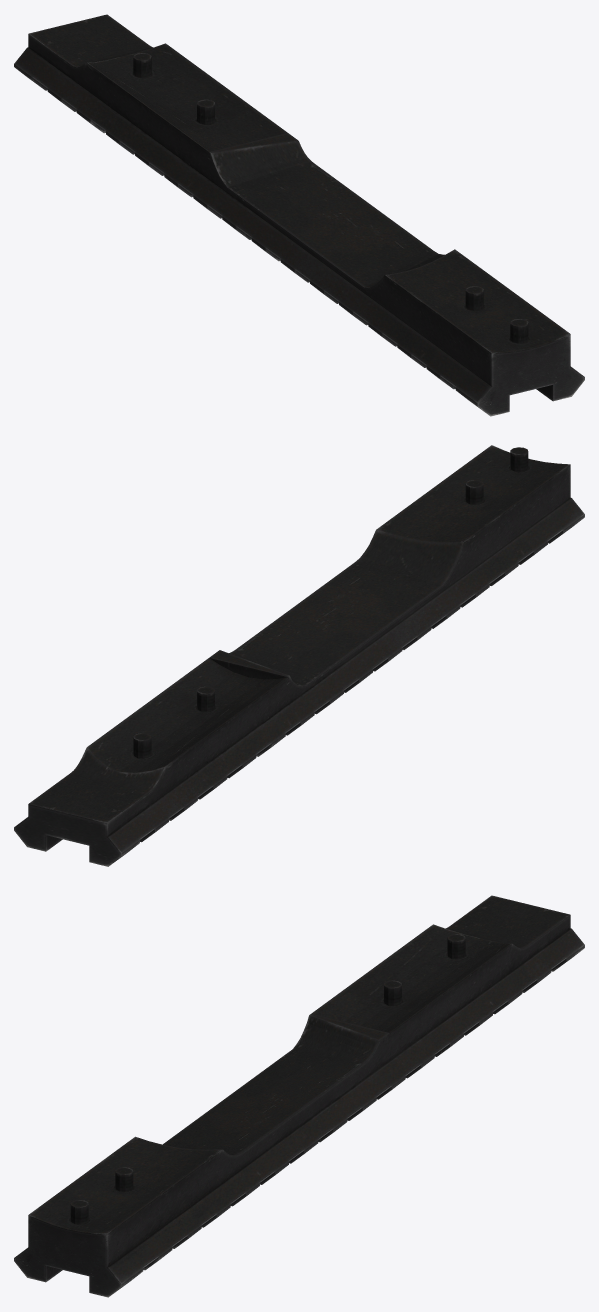
3 views of the same model, one above another, from view 1: azimuth 30°, elevation 25°; view 2: azimuth 150°, elevation 25°; view 3: azimuth 330°, elevation 25° (orthographic).
Visible parts, largest first — view 1: TW_65f064eec4da400cbb0dc1fe_PZ_Import; view 2: TW_65f064eec4da400cbb0dc1fe_PZ_Import; view 3: TW_65f064eec4da400cbb0dc1fe_PZ_Import.
Boxes of the visible parts, <box> form: TW_65f064eec4da400cbb0dc1fe_PZ_Import: <box>14,14,584,416</box>; TW_65f064eec4da400cbb0dc1fe_PZ_Import: <box>14,445,584,866</box>; TW_65f064eec4da400cbb0dc1fe_PZ_Import: <box>14,895,584,1297</box>.
Size of the model in its own units: 0.0123 by 0.0921 by 0.00825.
1 material, 1 textured.
